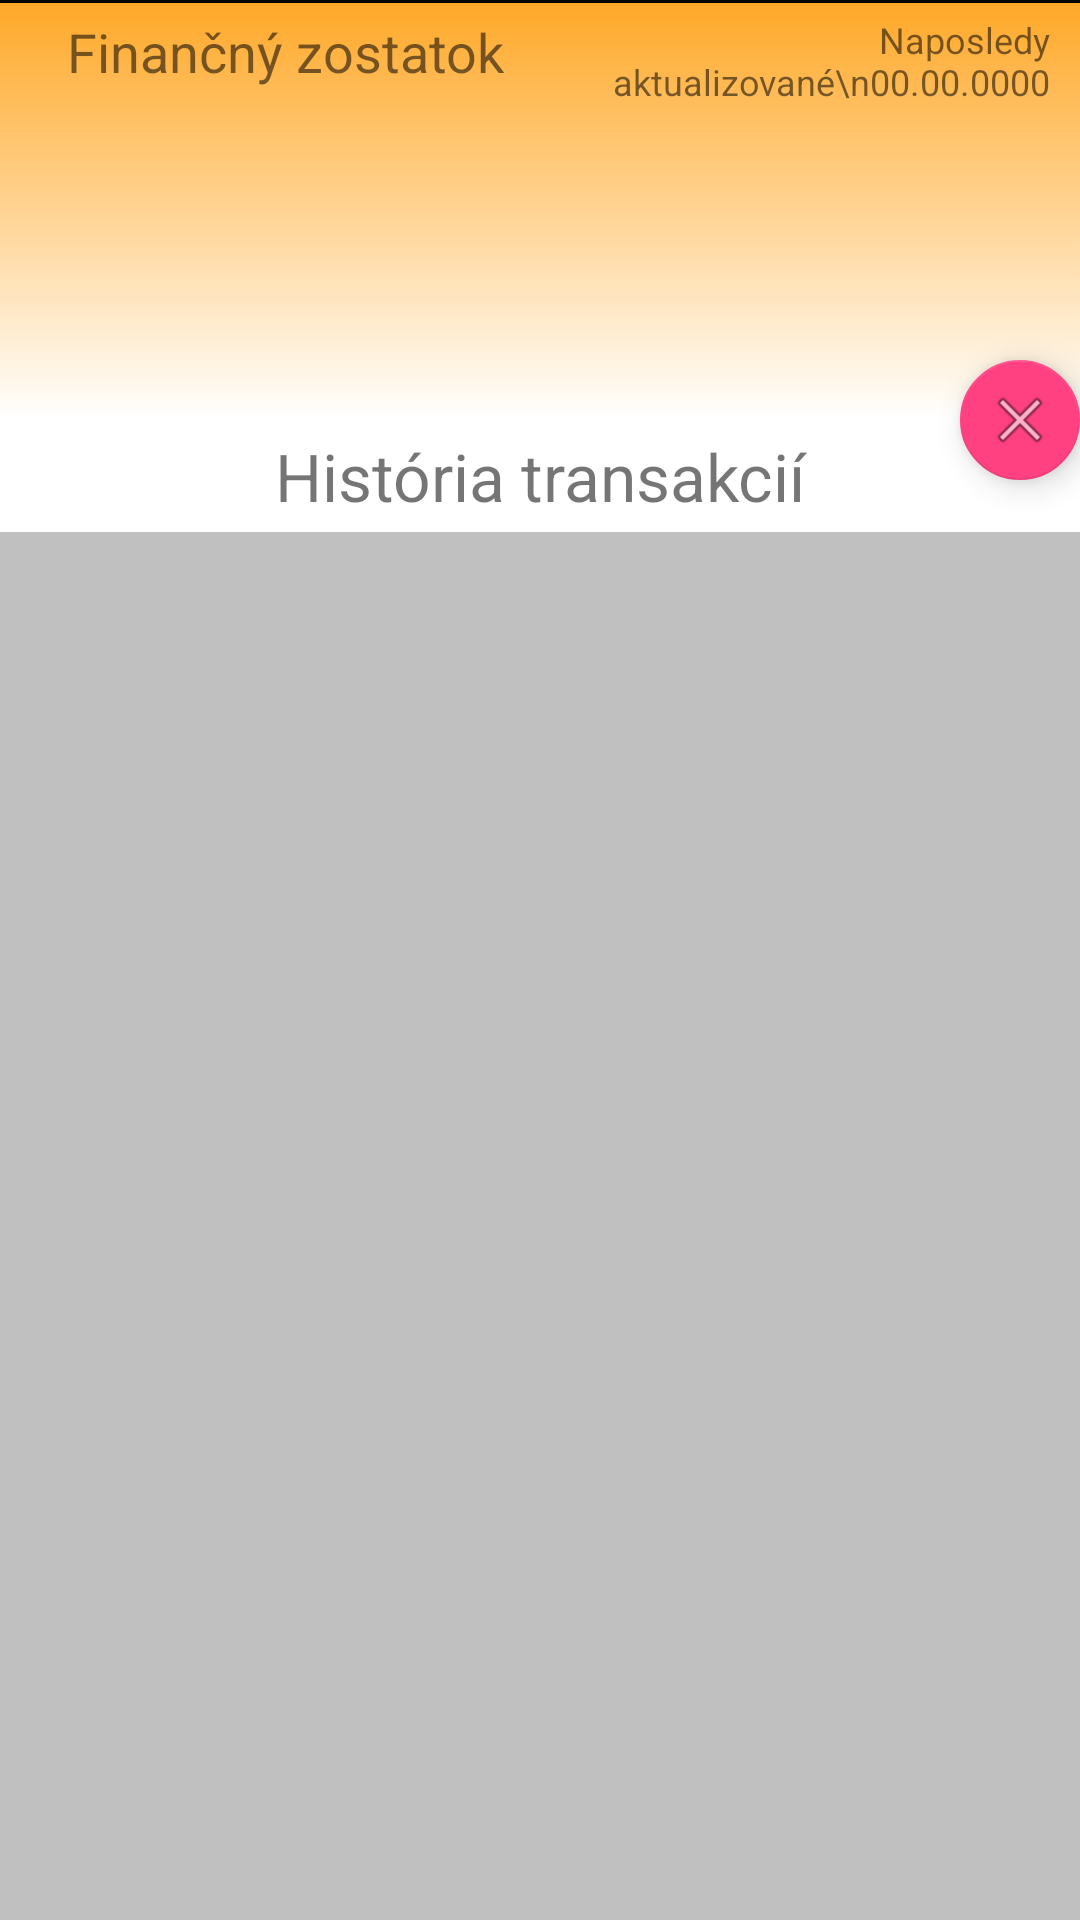

Named icons in this screenshot (1080x1920) and their bounding boxes, (x1, y1, x2, y2):
close clear cancel: (960, 360, 1080, 480)
